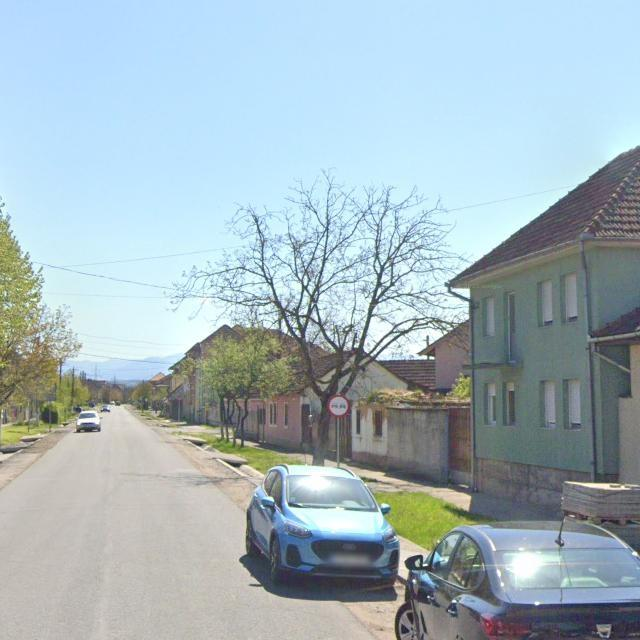forb_overtake: (327, 394, 350, 417)
